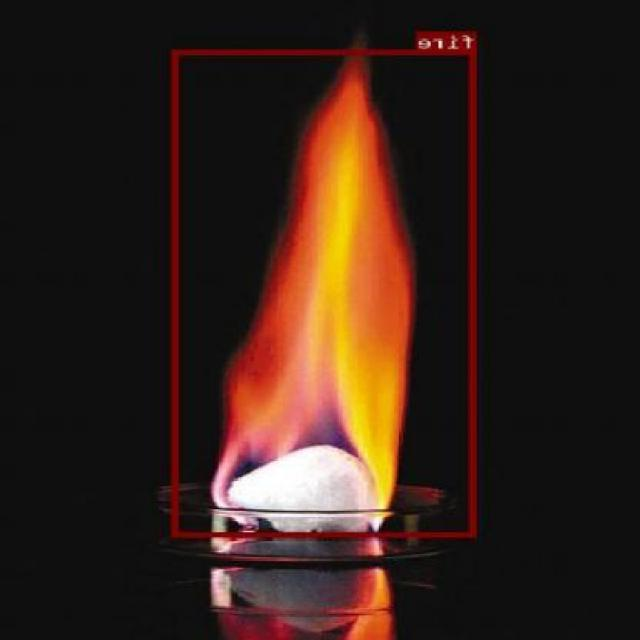fire: (173, 49, 478, 536)
